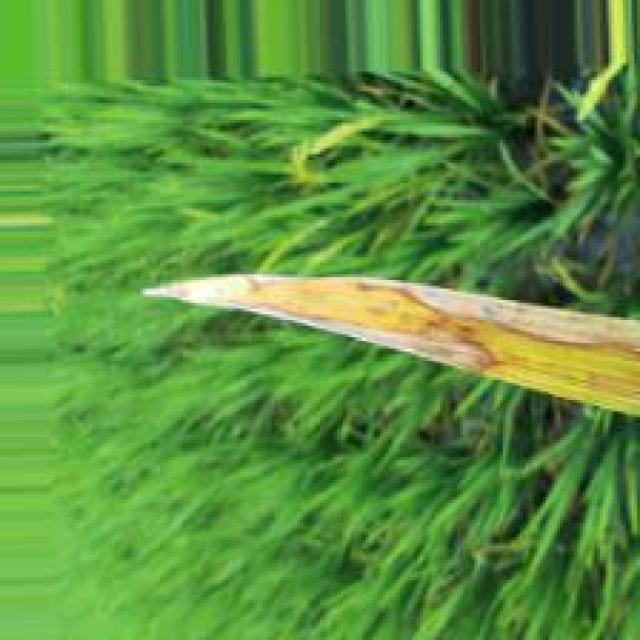Leaf_Scald: (139, 276, 640, 375)
